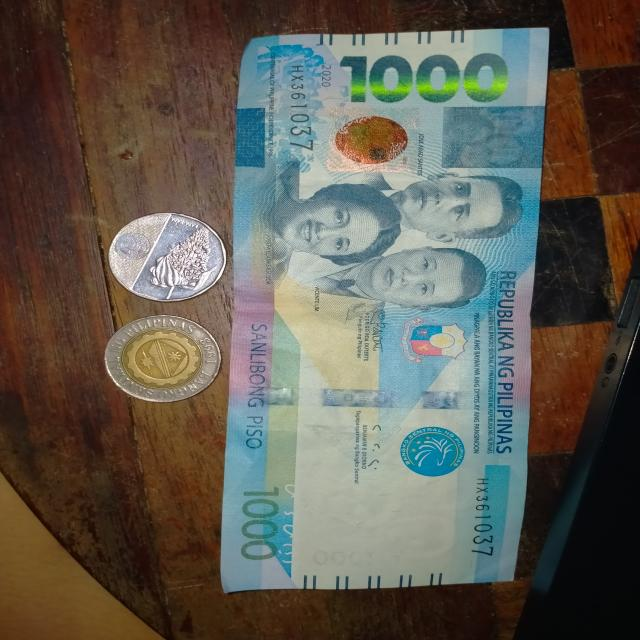concealed_value: (443, 103, 543, 170)
optically_variable_device: (326, 108, 419, 175)
see_through_mark: (272, 474, 314, 576)
value_watermark: (312, 548, 380, 572)
